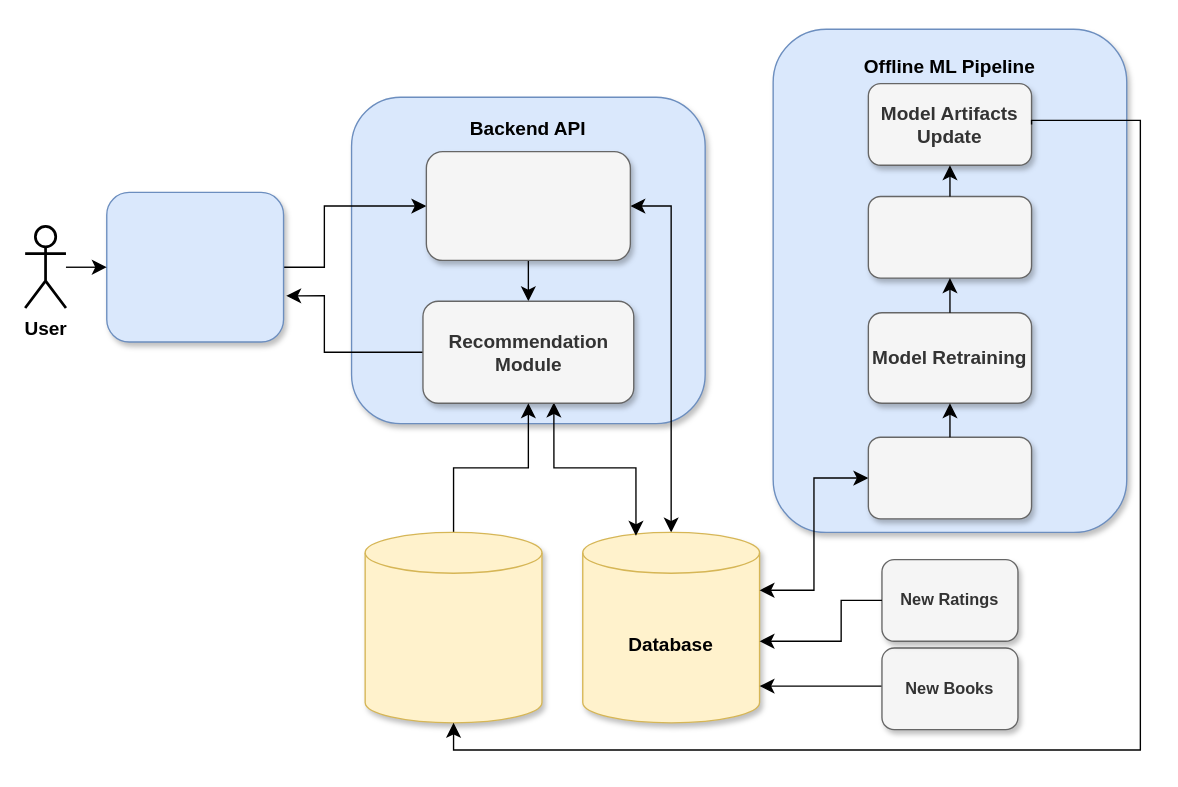
This 1178x787 diagram has some shape labels left out. Here are the shapes that lost their labels. From the top down, the centre of each, then its label:
pixel 529 207: Search Module
pixel 951 239: Evaluation
pixel 196 269: Frontend
pixel 951 479: Data Processing
pixel 454 629: Model Artifacts
